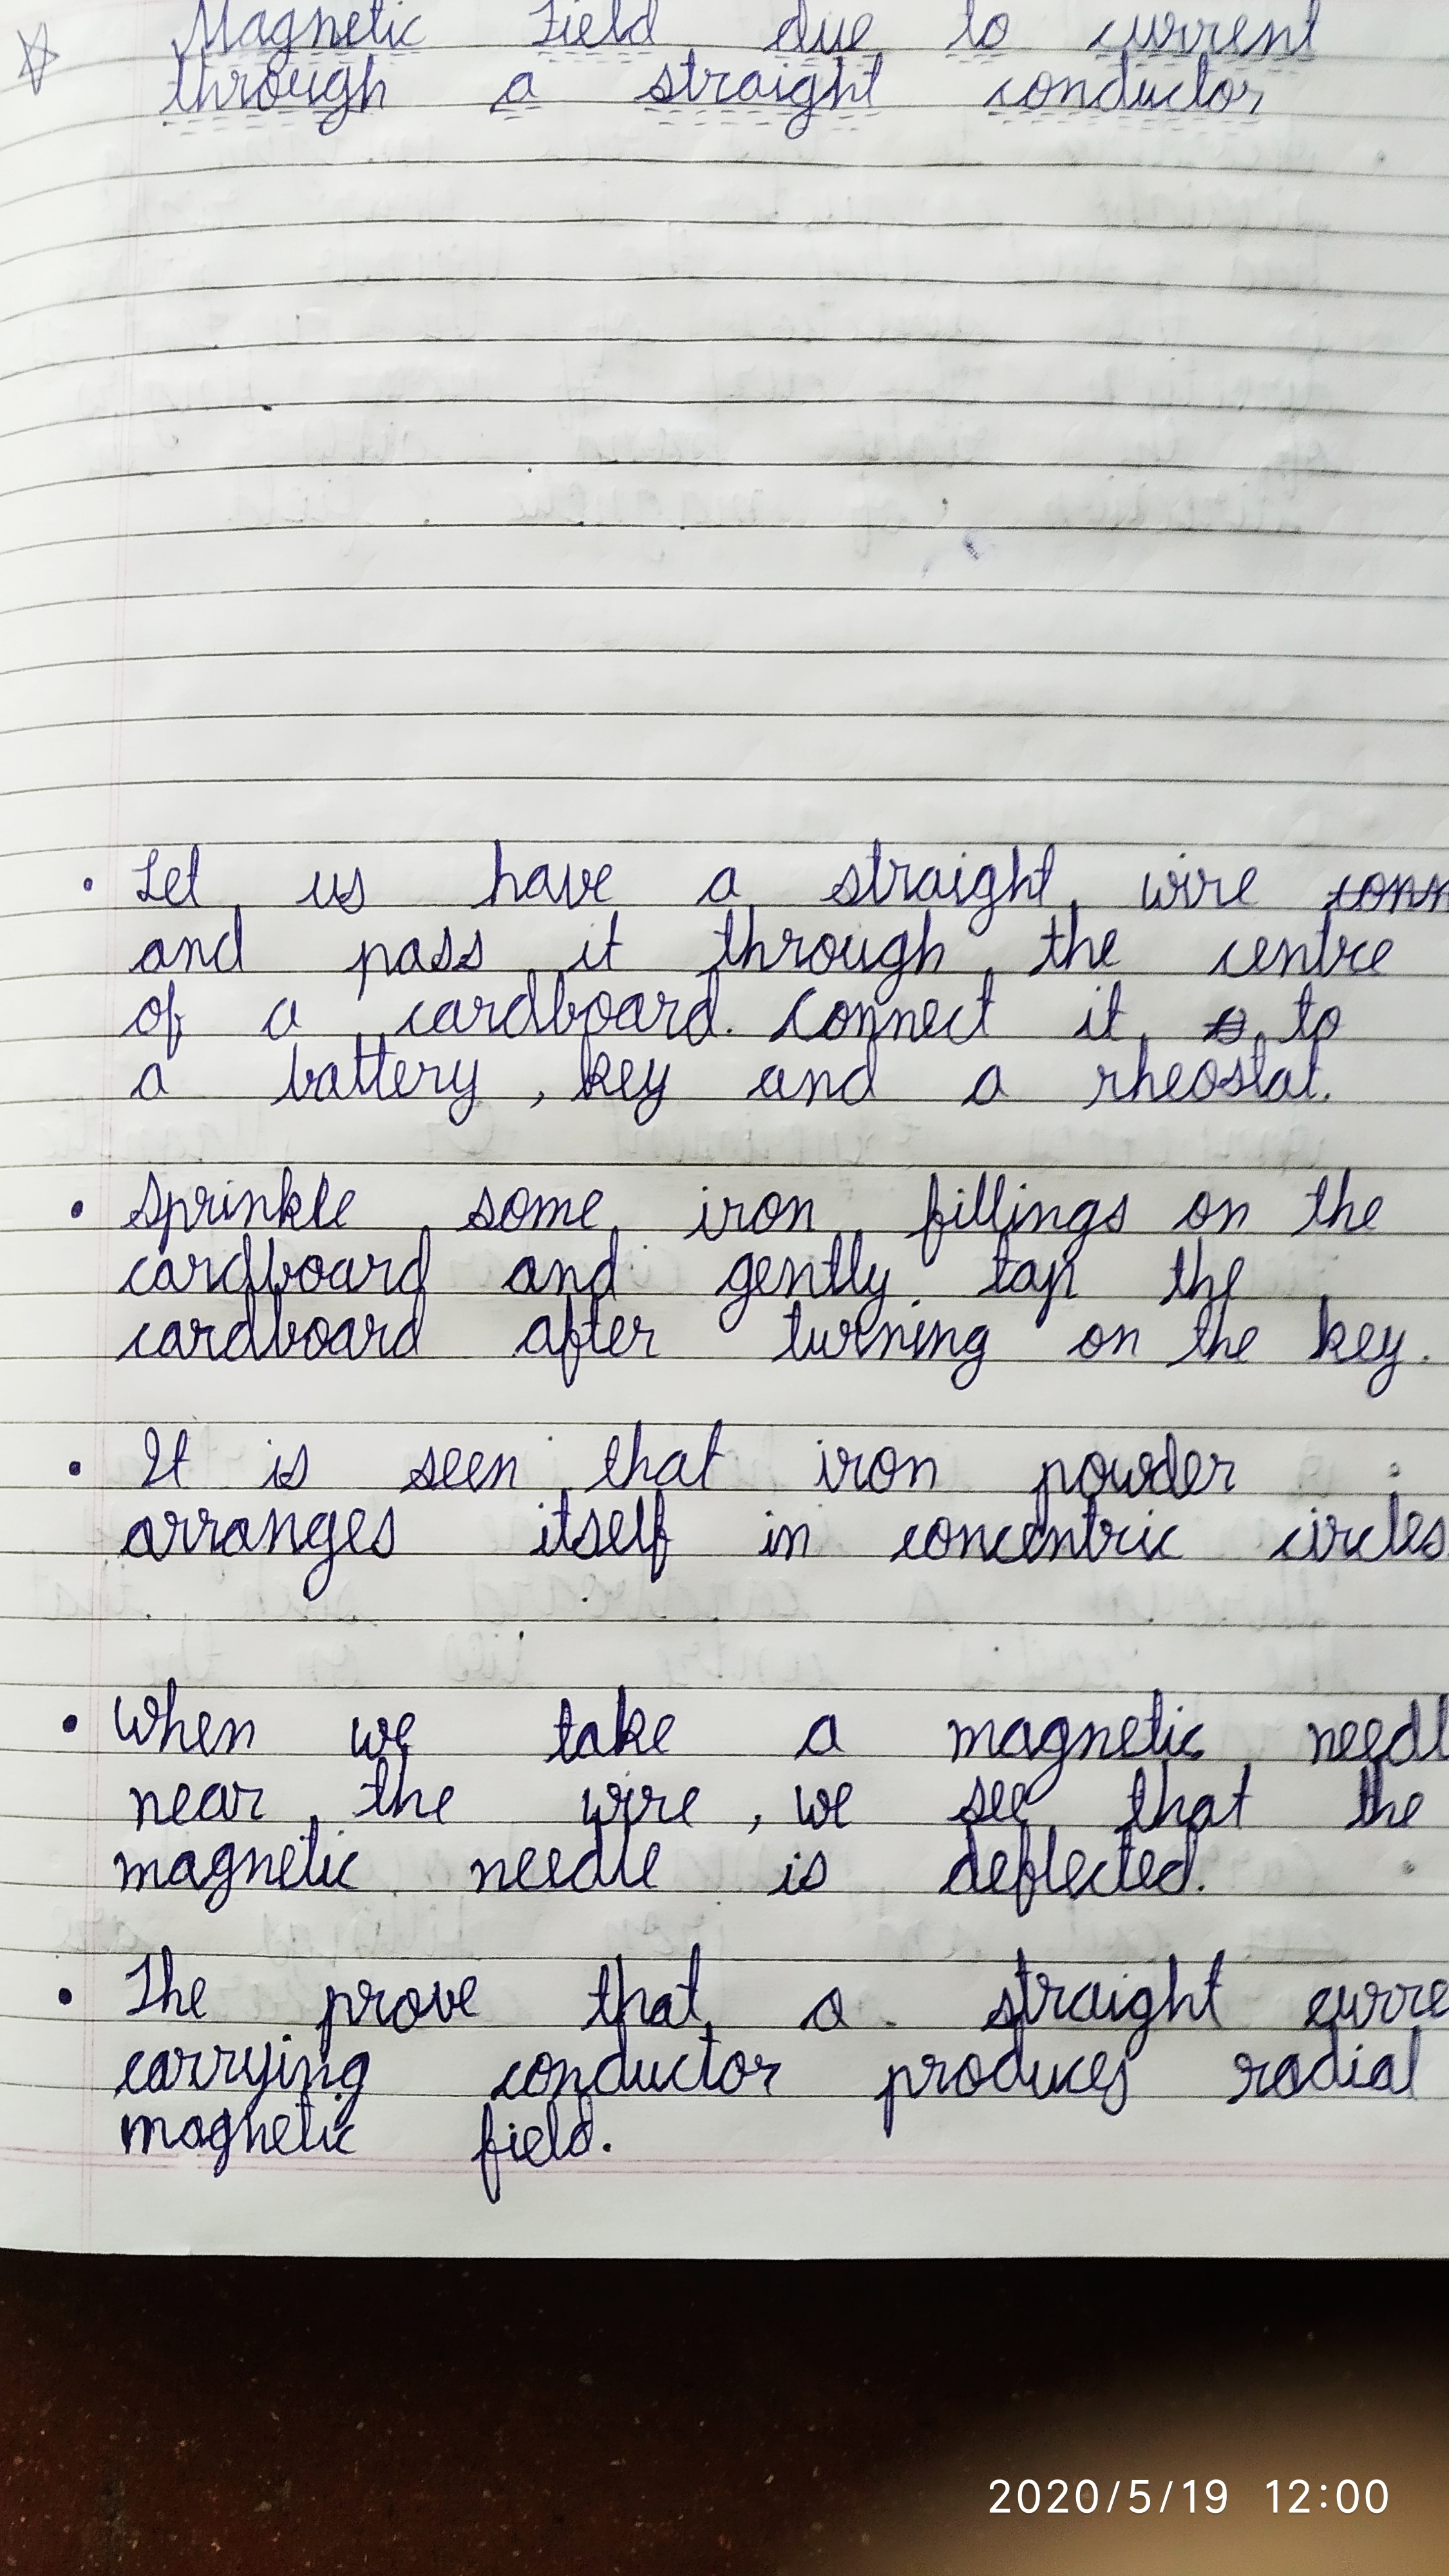C: (777, 985, 821, 1040)
F: (527, 0, 559, 44)
I: (140, 1424, 166, 1486)
L: (131, 847, 165, 902)
M: (184, 0, 230, 53)
S: (126, 1168, 165, 1230)
a: (968, 1062, 1007, 1106), (264, 996, 301, 1040), (520, 1313, 557, 1357), (706, 863, 743, 904), (653, 1447, 688, 1490), (501, 69, 540, 106), (502, 1253, 538, 1293), (614, 991, 648, 1033), (911, 863, 947, 902), (134, 936, 170, 975), (430, 996, 465, 1035), (133, 1062, 168, 1100), (520, 862, 554, 902), (235, 7, 267, 50), (732, 67, 768, 104), (1261, 1065, 1295, 1104), (149, 1256, 182, 1293), (395, 936, 426, 975), (1007, 1256, 1039, 1295), (154, 1318, 184, 1359), (755, 1062, 786, 1100), (313, 1062, 341, 1102), (329, 1316, 356, 1357), (327, 1256, 354, 1292)
b: (547, 971, 579, 1037), (269, 1292, 297, 1359), (264, 1235, 294, 1293), (287, 1042, 315, 1102)
c: (122, 1254, 154, 1297), (941, 1003, 971, 1044), (396, 14, 432, 48), (1219, 939, 1249, 978), (124, 1322, 154, 1359), (403, 1000, 432, 1037), (993, 74, 1021, 110), (1161, 81, 1191, 113), (1095, 19, 1120, 51)
d: (683, 968, 720, 1047), (501, 970, 541, 1037), (839, 1039, 879, 1106), (389, 1292, 428, 1361), (1092, 48, 1132, 111), (221, 1292, 258, 1361), (587, 1224, 621, 1300), (211, 906, 246, 973), (398, 1224, 432, 1295), (219, 1231, 257, 1293), (1150, 1433, 1180, 1495)
e: (1178, 1447, 1208, 1497), (1219, 1254, 1249, 1302), (575, 1189, 609, 1231), (1097, 927, 1129, 968), (1157, 1062, 1189, 1102), (1224, 12, 1254, 55), (610, 1058, 640, 1100), (1350, 1320, 1378, 1364), (1231, 865, 1261, 906), (157, 865, 186, 908), (462, 1447, 490, 1490), (603, 1315, 630, 1359), (338, 9, 368, 48), (333, 1189, 363, 1228), (847, 11, 876, 51), (918, 998, 947, 1039), (386, 1058, 414, 1099), (1233, 1323, 1261, 1364), (593, 862, 619, 904), (754, 1254, 780, 1297), (575, 11, 603, 50), (441, 1445, 465, 1490), (1369, 938, 1398, 975), (1246, 936, 1274, 973), (1357, 1194, 1385, 1231)
f: (920, 1171, 950, 1269), (559, 1295, 584, 1391), (163, 978, 184, 1062)
g: (717, 1251, 757, 1334), (870, 929, 913, 1007), (317, 65, 354, 138), (952, 1323, 991, 1391), (1062, 1198, 1100, 1263), (966, 863, 1000, 938), (786, 73, 819, 140), (265, 7, 297, 76)
h: (1063, 897, 1097, 970), (911, 908, 947, 975), (488, 839, 520, 904), (740, 904, 768, 971), (1131, 1031, 1157, 1100), (195, 46, 221, 113), (1005, 844, 1035, 902), (356, 55, 387, 110), (828, 55, 858, 111), (1330, 1168, 1357, 1231), (1189, 1237, 1215, 1300), (626, 1421, 651, 1483), (1212, 1304, 1233, 1361)
i: (690, 1184, 720, 1240), (945, 849, 971, 908), (908, 1299, 931, 1359), (1081, 985, 1106, 1040), (573, 922, 602, 970), (1177, 851, 1200, 909), (812, 1437, 835, 1488), (216, 1177, 241, 1223), (1007, 1182, 1030, 1231), (384, 0, 407, 48), (948, 1185, 971, 1231), (262, 1438, 283, 1488), (766, 62, 791, 103)
k: (577, 1033, 612, 1099), (1316, 1293, 1346, 1362), (274, 1164, 303, 1231)
l: (842, 1230, 867, 1295), (308, 1175, 333, 1230), (987, 1171, 1008, 1233), (970, 1169, 989, 1228)
m: (531, 1194, 571, 1230)
n: (778, 1254, 816, 1297), (548, 1256, 582, 1297), (308, 5, 338, 50), (1260, 18, 1293, 57), (1277, 936, 1309, 977), (1217, 1196, 1251, 1233), (784, 1194, 816, 1233), (801, 1067, 832, 1108), (239, 1187, 269, 1228), (175, 936, 207, 973), (1028, 1198, 1060, 1235), (1056, 73, 1088, 108), (876, 1322, 906, 1359), (929, 1318, 957, 1357), (490, 1451, 518, 1490), (908, 1454, 938, 1490), (1111, 1323, 1141, 1357), (890, 1007, 918, 1040), (855, 1000, 878, 1039)
o: (1072, 1449, 1111, 1499), (863, 1444, 901, 1493), (497, 1185, 533, 1233), (580, 989, 614, 1037), (817, 998, 853, 1042), (748, 1191, 784, 1235), (1021, 69, 1054, 111), (807, 931, 839, 975), (1189, 1056, 1221, 1100), (251, 69, 283, 111), (301, 1315, 329, 1362), (977, 12, 1012, 50), (1205, 76, 1237, 117), (133, 994, 163, 1037), (295, 1253, 326, 1293), (1313, 1003, 1343, 1042), (1185, 1189, 1212, 1231), (1077, 1322, 1108, 1359)
p: (1039, 1260, 1077, 1329), (1033, 1456, 1069, 1530), (356, 938, 391, 1001), (159, 1189, 189, 1253)
qqcoma: (527, 1090, 545, 1111)
qqfstop: (724, 1024, 736, 1039), (1322, 1092, 1336, 1104), (1419, 1353, 1431, 1366)
r: (832, 1444, 867, 1491), (1330, 934, 1369, 975), (1192, 863, 1226, 909), (359, 1253, 395, 1295), (885, 856, 915, 902), (648, 989, 681, 1030), (775, 927, 807, 970), (628, 1315, 658, 1359), (697, 65, 732, 103), (410, 1060, 444, 1099), (180, 1253, 214, 1292), (359, 1311, 387, 1357), (467, 994, 499, 1035), (184, 1316, 216, 1357), (1207, 1451, 1238, 1491), (1161, 9, 1189, 53), (718, 1196, 750, 1233), (835, 1318, 863, 1359), (189, 1184, 216, 1226), (1093, 1062, 1122, 1100)
s: (278, 1442, 313, 1490), (338, 865, 368, 916), (409, 1444, 441, 1491), (828, 862, 862, 906), (465, 1185, 497, 1231), (646, 60, 678, 104), (1217, 1054, 1249, 1097)
t: (692, 1419, 725, 1490), (1246, 1030, 1272, 1099), (366, 1031, 393, 1100), (711, 908, 741, 968), (973, 966, 998, 1035), (1288, 980, 1316, 1040), (987, 1231, 1014, 1295), (862, 837, 886, 904), (345, 1031, 370, 1097), (858, 51, 886, 108), (1037, 913, 1065, 968), (1031, 844, 1056, 906), (821, 1233, 846, 1295), (782, 1299, 807, 1361), (1102, 980, 1125, 1044), (674, 48, 701, 103), (1297, 1042, 1322, 1100), (1191, 1300, 1215, 1359), (1304, 1173, 1330, 1226), (600, 1433, 625, 1490), (600, 909, 623, 970), (168, 1428, 191, 1488), (182, 846, 203, 908), (582, 1295, 603, 1355), (1169, 1244, 1189, 1299)
u: (1125, 12, 1162, 51), (308, 869, 338, 911), (287, 65, 320, 103), (816, 14, 847, 53), (840, 932, 870, 971), (1132, 76, 1159, 110), (805, 1325, 832, 1359)
v: (561, 860, 593, 911)
w: (1108, 1447, 1154, 1497), (1141, 869, 1182, 911)
y: (1366, 1323, 1407, 1398), (855, 1261, 892, 1334), (633, 1058, 672, 1127), (448, 1058, 481, 1127)
